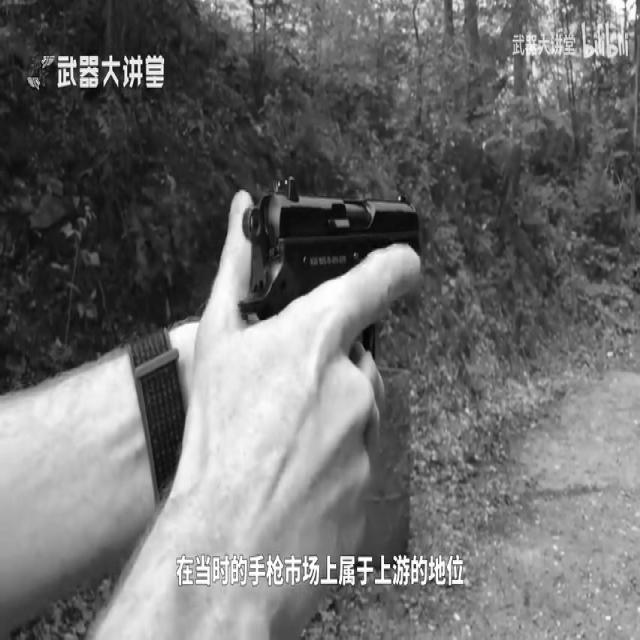Hand-Gun: (229, 159, 417, 411)
